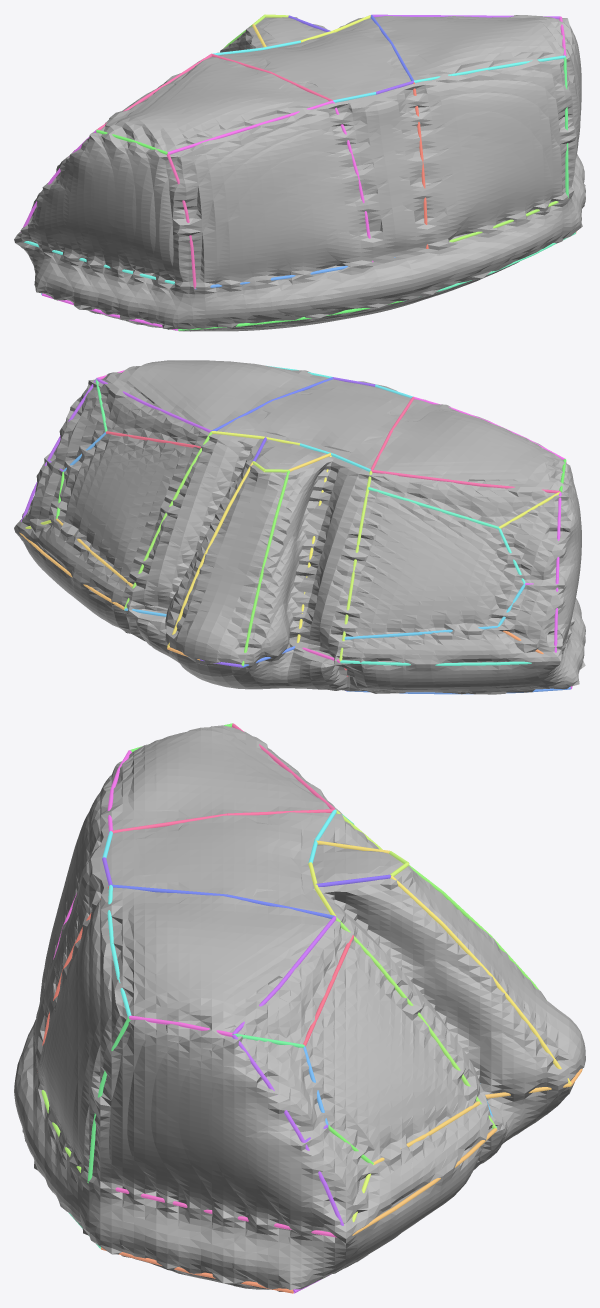
File: ils_speaker.gltf
3 views of the same model, one above another, from view 1: azimuth 30°, elevation 25°; view 2: azimuth 150°, elevation 25°; view 3: azimuth 270°, elevation 25° (orthographic). The views are drawn at different scales.
Size of the model in its own units: 0.822 by 0.3353 by 0.5437.
